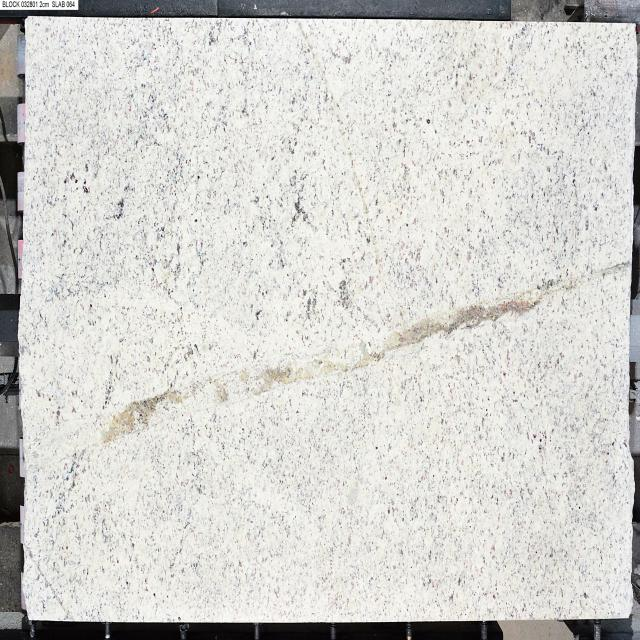chapa: (19, 17, 636, 624)
